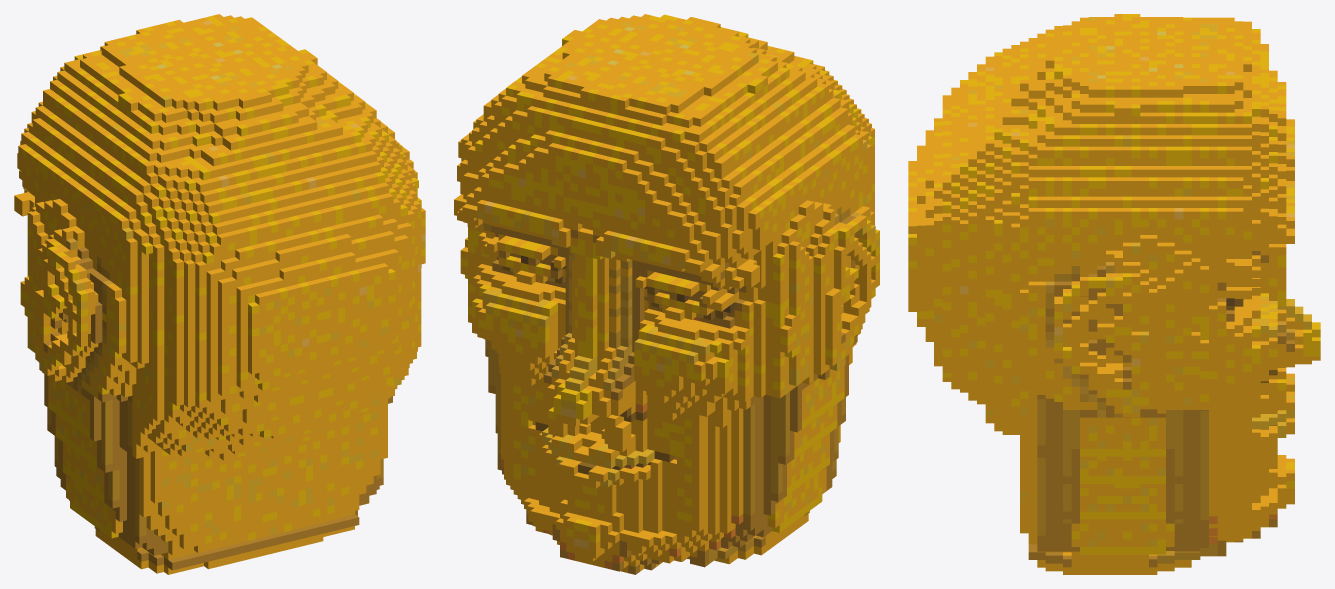
File: Mr. Sunday 3d.slab.obj
3 renders of one model, left to right at view 1: azimuth 30°, elevation 25°; view 2: azimuth 150°, elevation 25°; view 3: azimuth 270°, elevation 25°, orthographic. The views are drawn at different scales.
Size of the model in its own units: 48 by 60 by 48.
Materials: 1 (1 with a texture image).
